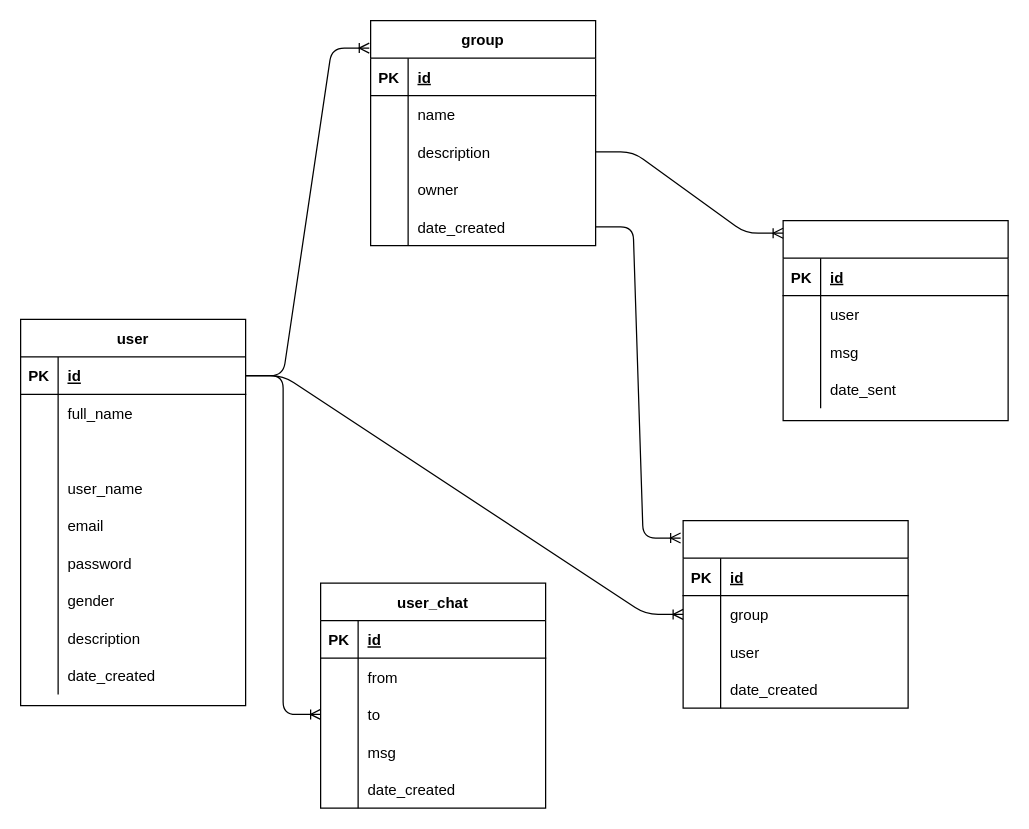
This 1029x829 diagram has some shape labels left out. Each missing label, with the box of its shape:
group_chat: (782, 219, 1008, 421)
group_subscribers: (682, 519, 908, 708)
